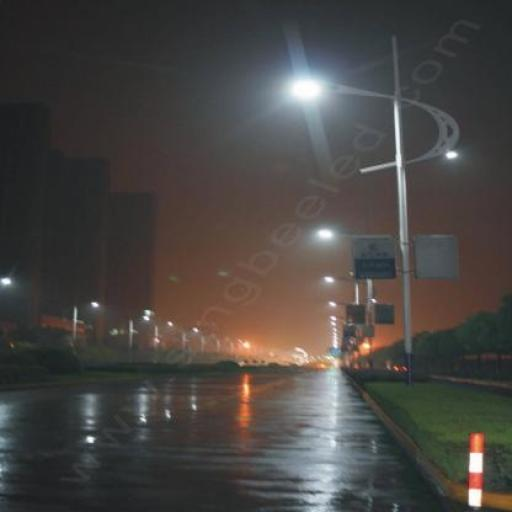street light: (289, 78, 462, 393), (318, 228, 385, 378), (324, 276, 379, 368), (73, 302, 100, 371), (128, 316, 153, 362)
